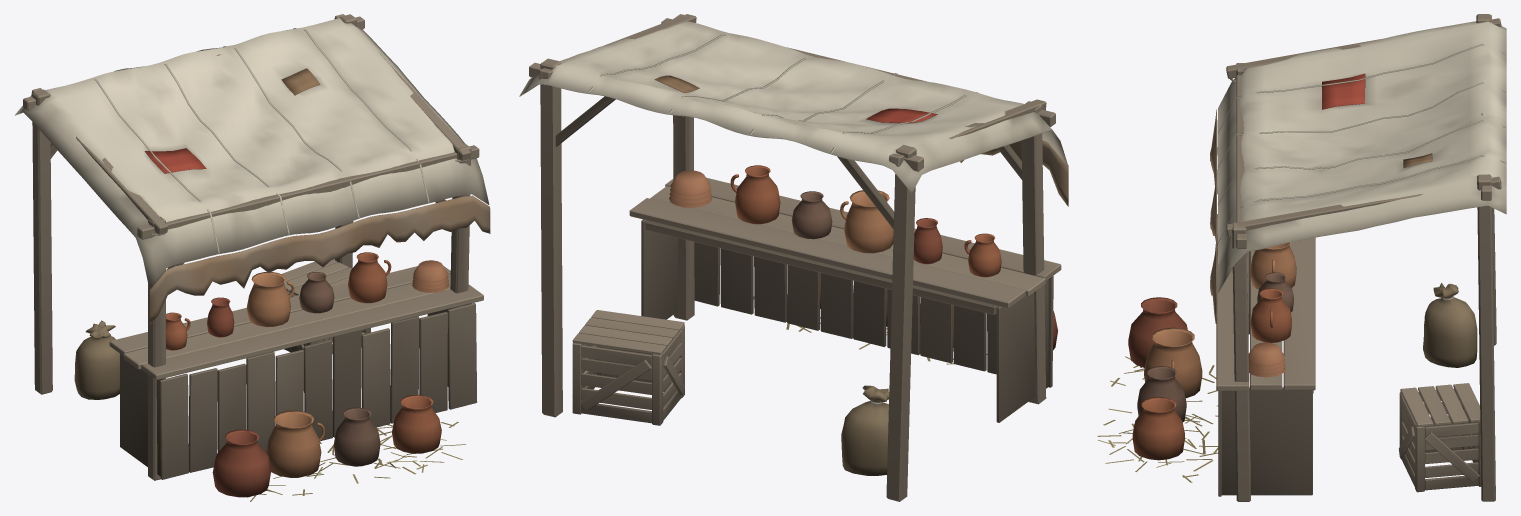
Rendered from stall_pots.glb.
3 views of the same model, side by side, from view 1: azimuth 30°, elevation 25°; view 2: azimuth 150°, elevation 25°; view 3: azimuth 270°, elevation 25° (orthographic). The views are drawn at different scales.
Visible parts, largest first — view 1: stall_pots, stall_pots_cloth; view 2: stall_pots, stall_pots_cloth; view 3: stall_pots, stall_pots_cloth.
Part boxes in pixels (<box>): stall_pots: <box>23,14,483,501</box>; stall_pots_cloth: <box>14,18,490,324</box>; stall_pots: <box>529,14,1061,501</box>; stall_pots_cloth: <box>519,21,1068,206</box>; stall_pots: <box>1097,14,1501,501</box>; stall_pots_cloth: <box>1210,21,1506,323</box>.
Size of what is drawn, in the model's own units: 2.92 by 2.49 by 2.84.
